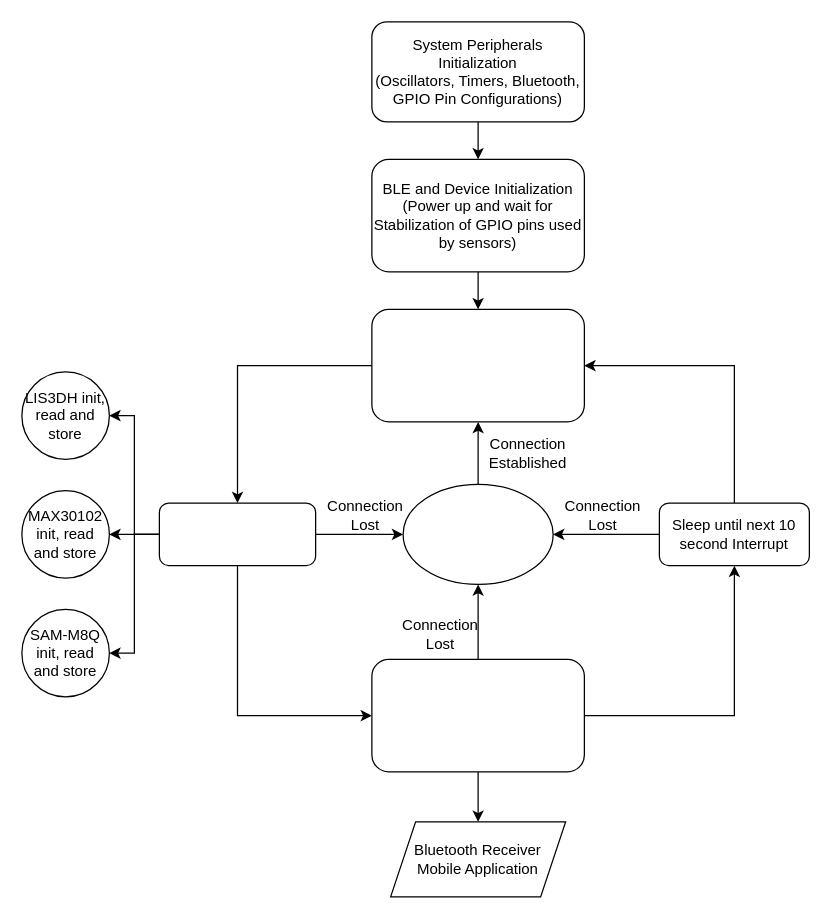
The diagram is 831 pixels wide and 919 high, and some of its shapes have lost their labels. The centre of each missing label's shape, as x and y in pixels:
"IDLE (Wait for Connection)" belongs at [477,533].
"Sensor Read/Write" belongs at [237,534].
"Transmit Updated Packet Structure (BLE Sequence)" belongs at [477,715].
"Wait for notifications from remote device" belongs at [477,365].
